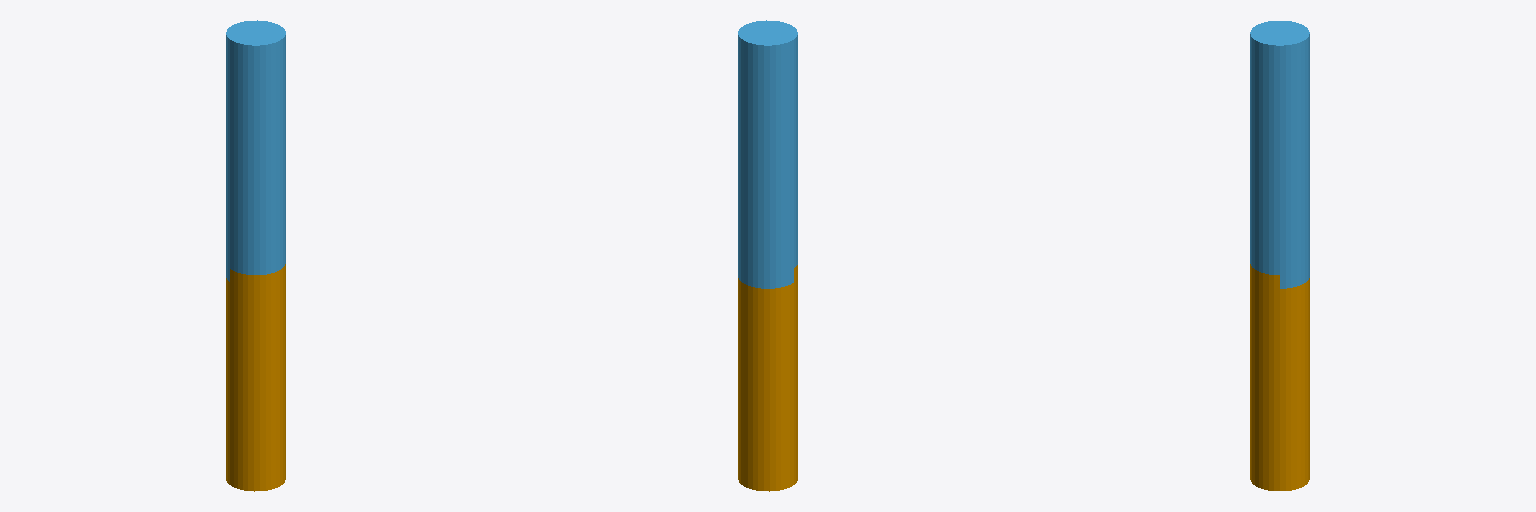
URDF robot description (walker2d):
<?xml version="1.0" ?>
<robot name="walker2d">
	<!-- <link name="base">
		<inertial>
			<origin rpy="0.00000 -0.00000 0.00000" xyz="0.00000 0.00000 0.00000"/>
			<mass value="1.00000"/>
			<inertia ixx="1.00000" ixy="0" ixz="0" iyy="1.00000" iyz="0" izz="1.00000"/>
		</inertial>
	</link> -->
	<link name="torso">
		<inertial>
			<origin rpy="0.00000 -0.00000 0.00000" xyz="0.00000 0.00000 1.25000"/>
			<mass value="3.66519"/>
			<inertia ixx="0.07941" ixy="0" ixz="0" iyy="0.07941" iyz="0" izz="0.00611"/>
		</inertial>
		<collision>
			<origin rpy="3.14159 -0.00000 3.14159" xyz="0.00000 0.00000 1.25000"/>
			<geometry>
				<capsule length="0.40000" radius="0.05000"/>
			</geometry>
		</collision>
		<visual>
			<origin rpy="3.14159 -0.00000 3.14159" xyz="0.00000 0.00000 1.25000"/>
			<geometry>
				<cylinder length="0.40000" radius="0.05000"/>
			</geometry>
		</visual>
	</link>
	<link name="thigh">
		<inertial>
			<origin rpy="0.00000 -0.00000 0.00000" xyz="0.00000 0.00000 0.82500"/>
			<mass value="4.05789"/>
			<inertia ixx="0.10567" ixy="0" ixz="0" iyy="0.10567" iyz="0" izz="0.00676"/>
		</inertial>
		<collision>
			<origin rpy="3.14159 -0.00000 3.14159" xyz="0.00000 0.00000 0.82500"/>
			<geometry>
				<capsule length="0.45000" radius="0.05000"/>
			</geometry>
		</collision>
		<visual>
			<origin rpy="3.14159 -0.00000 3.14159" xyz="0.00000 0.00000 0.82500"/>
			<geometry>
				<cylinder length="0.45000" radius="0.05000"/>
			</geometry>
		</visual>
	</link>

	<!-- <joint name="base_joint" type="planaraxis">
		<origin rpy="0 0 0" xyz="0 0.08505 0"/>
		<parent link="base"/>
		<child link="torso"/>
		<axis xyz="0 1 0"/>
	</joint> -->

	<joint name="thigh_joint" type="revolute">
		<parent link="torso"/>
		<child link="thigh"/>
		<dynamics damping="1.0" friction="0.0001"/>
		<origin rpy="0.00000 -0.00000 0.00000" xyz="0.00000 0.00000 0.82500"/>
		<axis xyz="0.00000 -1.00000 0.00000"/>
	</joint>
</robot>






<!-- <?xml version="0.0" ?>
<robot name="walker2d">
	<link name="link0_1">
		<inertial>
			<origin rpy="0.00000 -0.00000 0.00000" xyz="0.00000 0.00000 0.00000"/>
			<mass value="0.00000"/>
			<inertia ixx="0.00000" ixy="0" ixz="0" iyy="0.00000" iyz="0" izz="0.00000"/>
		</inertial>
	</link>
	<link name="link0_2">
		<inertial>
			<origin rpy="0.00000 -0.00000 0.00000" xyz="0.00000 0.00000 0.00000"/>
			<mass value="0.00000"/>
			<inertia ixx="0.00000" ixy="0" ixz="0" iyy="0.00000" iyz="0" izz="0.00000"/>
		</inertial>
	</link>
	<link name="link0_3">
		<inertial>
			<origin rpy="0.00000 -0.00000 0.00000" xyz="0.00000 0.00000 0.00000"/>
			<mass value="0.00000"/>
			<inertia ixx="0.00000" ixy="0" ixz="0" iyy="0.00000" iyz="0" izz="0.00000"/>
		</inertial>
	</link>
	<link name="link0_4">
		<inertial>
			<origin rpy="0.00000 -0.00000 0.00000" xyz="0.00000 0.00000 0.00000"/>
			<mass value="0.00000"/>
			<inertia ixx="0.00000" ixy="0" ixz="0" iyy="0.00000" iyz="0" izz="0.00000"/>
		</inertial>
	</link>
	<link name="torso">
		<inertial>
			<origin rpy="0.00000 -0.00000 0.00000" xyz="0.00000 0.00000 1.25000"/>
			<mass value="3.66519"/>
			<inertia ixx="0.07941" ixy="0" ixz="0" iyy="0.07941" iyz="0" izz="0.00611"/>
		</inertial>
		<collision>
			<origin rpy="3.14159 -0.00000 3.14159" xyz="0.00000 0.00000 1.25000"/>
			<geometry>
				<capsule length="0.40000" radius="0.05000"/>
			</geometry>
		</collision>
	</link>
	<link name="link0_6">
		<inertial>
			<origin rpy="0.00000 -0.00000 0.00000" xyz="0.00000 0.00000 0.00000"/>
			<mass value="0.00000"/>
			<inertia ixx="0.00000" ixy="0" ixz="0" iyy="0.00000" iyz="0" izz="0.00000"/>
		</inertial>
	</link>
	<link name="thigh">
		<inertial>
			<origin rpy="0.00000 -0.00000 0.00000" xyz="0.00000 0.00000 0.82500"/>
			<mass value="4.05789"/>
			<inertia ixx="0.10567" ixy="0" ixz="0" iyy="0.10567" iyz="0" izz="0.00676"/>
		</inertial>
		<collision>
			<origin rpy="3.14159 -0.00000 3.14159" xyz="0.00000 0.00000 0.82500"/>
			<geometry>
				<capsule length="0.45000" radius="0.05000"/>
			</geometry>
		</collision>
	</link>
	<link name="link0_8">
		<inertial>
			<origin rpy="0.00000 -0.00000 0.00000" xyz="0.00000 0.00000 0.00000"/>
			<mass value="0.00000"/>
			<inertia ixx="0.00000" ixy="0" ixz="0" iyy="0.00000" iyz="0" izz="0.00000"/>
		</inertial>
	</link>
	<link name="leg">
		<inertial>
			<origin rpy="0.00000 -0.00000 0.00000" xyz="0.00000 0.00000 0.35000"/>
			<mass value="2.78136"/>
			<inertia ixx="0.07945" ixy="0" ixz="0" iyy="0.07945" iyz="0" izz="0.00297"/>
		</inertial>
		<collision>
			<origin rpy="3.14159 -0.00000 3.14159" xyz="0.00000 0.00000 0.35000"/>
			<geometry>
				<capsule length="0.50000" radius="0.04000"/>
			</geometry>
		</collision>
	</link>
	<link name="link0_10">
		<inertial>
			<origin rpy="0.00000 -0.00000 0.00000" xyz="0.00000 0.00000 0.00000"/>
			<mass value="0.00000"/>
			<inertia ixx="0.00000" ixy="0" ixz="0" iyy="0.00000" iyz="0" izz="0.00000"/>
		</inertial>
	</link>
	<link name="foot">
		<inertial>
			<origin rpy="0.00000 -0.00000 0.00000" xyz="0.10000 0.00000 0.10000"/>
			<mass value="3.16673"/>
			<inertia ixx="0.00760" ixy="0" ixz="0" iyy="0.03082" iyz="0" izz="0.03082"/>
		</inertial>
		<collision>
			<origin rpy="0.00000 1.57080 -0.00000" xyz="0.10000 0.00000 0.10000"/>
			<geometry>
				<capsule length="0.20000" radius="0.06000"/>
			</geometry>
		</collision>
	</link>
	<link name="link0_12">
		<inertial>
			<origin rpy="0.00000 -0.00000 0.00000" xyz="0.00000 0.00000 0.00000"/>
			<mass value="0.00000"/>
			<inertia ixx="0.00000" ixy="0" ixz="0" iyy="0.00000" iyz="0" izz="0.00000"/>
		</inertial>
	</link>
	<link name="thigh_left">
		<inertial>
			<origin rpy="0.00000 -0.00000 0.00000" xyz="0.00000 0.00000 0.82500"/>
			<mass value="4.05789"/>
			<inertia ixx="0.10567" ixy="0" ixz="0" iyy="0.10567" iyz="0" izz="0.00676"/>
		</inertial>
		<collision>
			<origin rpy="3.14159 -0.00000 3.14159" xyz="0.00000 0.00000 0.82500"/>
			<geometry>
				<capsule length="0.45000" radius="0.05000"/>
			</geometry>
		</collision>
	</link>
	<link name="link0_14">
		<inertial>
			<origin rpy="0.00000 -0.00000 0.00000" xyz="0.00000 0.00000 0.00000"/>
			<mass value="0.00000"/>
			<inertia ixx="0.00000" ixy="0" ixz="0" iyy="0.00000" iyz="0" izz="0.00000"/>
		</inertial>
	</link>
	<link name="leg_left">
		<inertial>
			<origin rpy="0.00000 -0.00000 0.00000" xyz="0.00000 0.00000 0.35000"/>
			<mass value="2.78136"/>
			<inertia ixx="0.07945" ixy="0" ixz="0" iyy="0.07945" iyz="0" izz="0.00297"/>
		</inertial>
		<collision>
			<origin rpy="3.14159 -0.00000 3.14159" xyz="0.00000 0.00000 0.35000"/>
			<geometry>
				<capsule length="0.50000" radius="0.04000"/>
			</geometry>
		</collision>
	</link>
	<link name="link0_16">
		<inertial>
			<origin rpy="0.00000 -0.00000 0.00000" xyz="0.00000 0.00000 0.00000"/>
			<mass value="0.00000"/>
			<inertia ixx="0.00000" ixy="0" ixz="0" iyy="0.00000" iyz="0" izz="0.00000"/>
		</inertial>
	</link>
	<link name="foot_left">
		<inertial>
			<origin rpy="0.00000 -0.00000 0.00000" xyz="0.10000 0.00000 0.10000"/>
			<mass value="3.16673"/>
			<inertia ixx="0.00760" ixy="0" ixz="0" iyy="0.03082" iyz="0" izz="0.03082"/>
		</inertial>
		<collision>
			<origin rpy="0.00000 1.57080 -0.00000" xyz="0.10000 0.00000 0.10000"/>
			<geometry>
				<capsule length="0.20000" radius="0.06000"/>
			</geometry>
		</collision>
	</link>



	<joint name="ignorex" type="prismatic">
		<parent link="link0_1"/>
		<child link="link0_2"/>
<limit effort="1000.0" lower="-0.50000" upper="0.50000" velocity="0.5"/>		<dynamics damping="1.0" friction="0.0001"/>
		<origin rpy="0.00000 -0.00000 0.00000" xyz="0.00000 0.00000 0.00000"/>
		<axis xyz="1.00000 0.00000 0.00000"/>
	</joint>
	<joint name="ignorez" type="prismatic">
		<parent link="link0_2"/>
		<child link="link0_3"/>
<limit effort="1000.0" lower="-0.50000" upper="0.50000" velocity="0.5"/>		<dynamics damping="1.0" friction="0.0001"/>
		<origin rpy="0.00000 -0.00000 0.00000" xyz="0.00000 0.00000 0.00000"/>
		<axis xyz="0.00000 0.00000 1.00000"/>
	</joint>
	<joint name="ignorey" type="continuous">
		<parent link="link0_3"/>
		<child link="link0_4"/>
		<dynamics damping="1.0" friction="0.0001"/>
		<origin rpy="0.00000 -0.00000 0.00000" xyz="0.00000 0.00000 0.00000"/>
		<axis xyz="0.00000 1.00000 0.00000"/>
	</joint>
	<joint name="jointfix_6_4" type="fixed">
		<parent link="link0_4"/>
		<child link="torso"/>
		<dynamics damping="1.0" friction="0.0001"/>
		<origin rpy="0.00000 -0.00000 0.00000" xyz="0.00000 0.00000 0.00000"/>
		<axis xyz="0.00000 0.00000 0.00000"/>
	</joint>
	<joint name="thigh_joint" type="revolute">
		<parent link="torso"/>
		<child link="link0_6"/>
		<dynamics damping="1.0" friction="0.0001"/>
		<origin rpy="0.00000 -0.00000 0.00000" xyz="0.00000 0.00000 1.05000"/>
		<axis xyz="0.00000 -1.00000 0.00000"/>
	</joint>
	<joint name="jointfix_2_6" type="fixed">
		<parent link="link0_6"/>
		<child link="thigh"/>
		<dynamics damping="1.0" friction="0.0001"/>
		<origin rpy="0.00000 -0.00000 0.00000" xyz="0.00000 0.00000 -1.05000"/>
		<axis xyz="0.00000 0.00000 0.00000"/>
	</joint>
	<joint name="leg_joint" type="revolute">
		<parent link="thigh"/>
		<child link="link0_8"/>
		<dynamics damping="1.0" friction="0.0001"/>
		<origin rpy="0.00000 -0.00000 0.00000" xyz="0.00000 0.00000 0.60000"/>
		<axis xyz="0.00000 -1.00000 0.00000"/>
	</joint>
	<joint name="jointfix_1_8" type="fixed">
		<parent link="link0_8"/>
		<child link="leg"/>
		<dynamics damping="1.0" friction="0.0001"/>
		<origin rpy="0.00000 -0.00000 0.00000" xyz="0.00000 0.00000 -0.60000"/>
		<axis xyz="0.00000 0.00000 0.00000"/>
	</joint>
	<joint name="foot_joint" type="revolute">
		<parent link="leg"/>
		<child link="link0_10"/>
		<dynamics damping="1.0" friction="0.0001"/>
		<origin rpy="0.00000 -0.00000 0.00000" xyz="0.00000 0.00000 0.10000"/>
		<axis xyz="0.00000 -1.00000 0.00000"/>
	</joint>
	<joint name="jointfix_0_10" type="fixed">
		<parent link="link0_10"/>
		<child link="foot"/>
		<dynamics damping="1.0" friction="0.0001"/>
		<origin rpy="0.00000 -0.00000 0.00000" xyz="0.00000 0.00000 -0.10000"/>
		<axis xyz="0.00000 0.00000 0.00000"/>
	</joint>
	<joint name="thigh_left_joint" type="revolute">
		<parent link="torso"/>
		<child link="link0_12"/>
		<dynamics damping="1.0" friction="0.0001"/>
		<origin rpy="0.00000 -0.00000 0.00000" xyz="0.00000 0.00000 1.05000"/>
		<axis xyz="0.00000 -1.00000 0.00000"/>
	</joint>
	<joint name="jointfix_5_12" type="fixed">
		<parent link="link0_12"/>
		<child link="thigh_left"/>
		<dynamics damping="1.0" friction="0.0001"/>
		<origin rpy="0.00000 -0.00000 0.00000" xyz="0.00000 0.00000 -1.05000"/>
		<axis xyz="0.00000 0.00000 0.00000"/>
	</joint>
	<joint name="leg_left_joint" type="revolute">
		<parent link="thigh_left"/>
		<child link="link0_14"/>
		<dynamics damping="1.0" friction="0.0001"/>
		<origin rpy="0.00000 -0.00000 0.00000" xyz="0.00000 0.00000 0.60000"/>
		<axis xyz="0.00000 -1.00000 0.00000"/>
	</joint>
	<joint name="jointfix_4_14" type="fixed">
		<parent link="link0_14"/>
		<child link="leg_left"/>
		<dynamics damping="1.0" friction="0.0001"/>
		<origin rpy="0.00000 -0.00000 0.00000" xyz="0.00000 0.00000 -0.60000"/>
		<axis xyz="0.00000 0.00000 0.00000"/>
	</joint>
	<joint name="foot_left_joint" type="revolute">
		<parent link="leg_left"/>
		<child link="link0_16"/>
		<dynamics damping="1.0" friction="0.0001"/>
		<origin rpy="0.00000 -0.00000 0.00000" xyz="0.00000 0.00000 0.10000"/>
		<axis xyz="0.00000 -1.00000 0.00000"/>
	</joint>
	<joint name="jointfix_3_16" type="fixed">
		<parent link="link0_16"/>
		<child link="foot_left"/>
		<dynamics damping="1.0" friction="0.0001"/>
		<origin rpy="0.00000 -0.00000 0.00000" xyz="0.00000 0.00000 -0.10000"/>
		<axis xyz="0.00000 0.00000 0.00000"/>
	</joint>
</robot> -->

--- Facts derived from the render (not from the file) ---
3 views of the same robot in one strip: view 1: azimuth 30°, elevation 25°; view 2: azimuth 150°, elevation 25°; view 3: azimuth 270°, elevation 25° (orthographic).
Model walker2d with 2 links and 1 joints (1 revolute), rooted at torso, posed every joint at zero.
Visible links, largest first — view 1: thigh, torso; view 2: thigh, torso; view 3: thigh, torso.
Boxes of the visible links, <box> form: thigh: <box>226,20,285,281</box>; torso: <box>226,264,285,491</box>; thigh: <box>738,20,797,288</box>; torso: <box>738,265,797,491</box>; thigh: <box>1250,21,1309,288</box>; torso: <box>1250,264,1309,490</box>.
Bounding box of the posed robot: 0.1 × 0.1 × 0.825 m (x, y, z).
Geometry: primitives only (box / cylinder / sphere), no mesh files.
